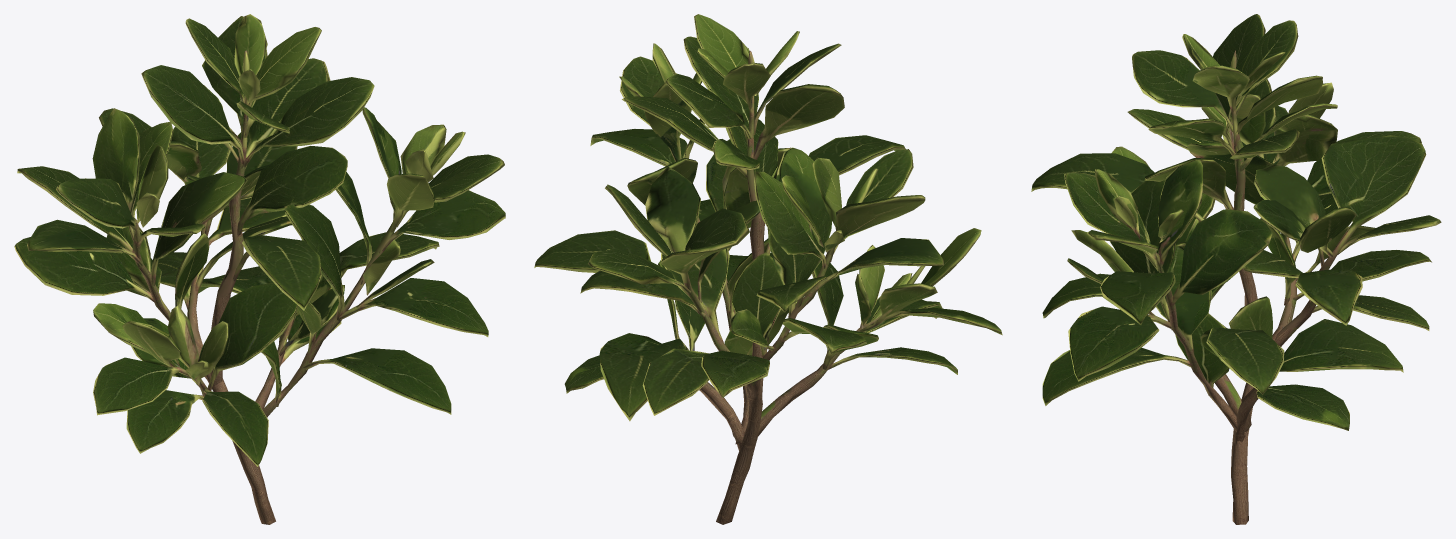
File: Meshy_AI__0915203436_texture.glb
3 views of the same model, side by side, from view 1: azimuth 30°, elevation 25°; view 2: azimuth 150°, elevation 25°; view 3: azimuth 270°, elevation 25° (orthographic). The views are drawn at different scales.
Size of the model in its own units: 0.8828 by 1 by 0.7812.
Materials: 1 (1 with a texture image).
